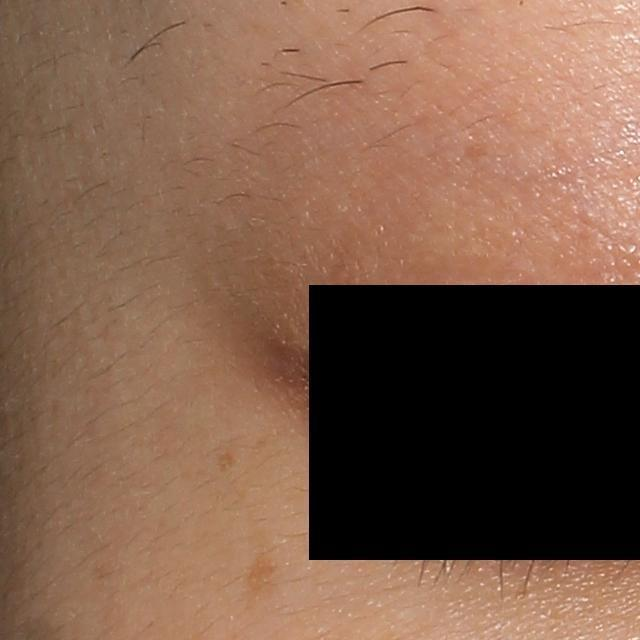melasma: (238, 544, 280, 598), (212, 446, 241, 474)
